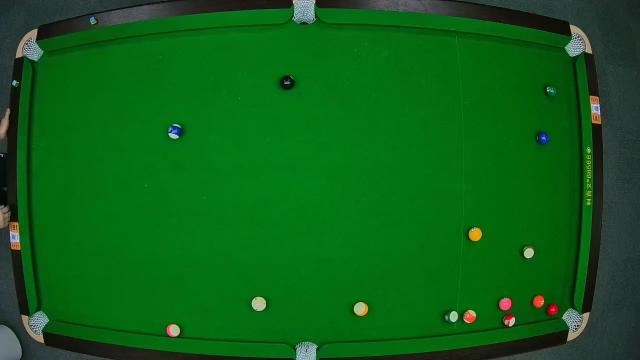bag1: (22, 38, 42, 60)
bag2: (292, 1, 316, 23)
bag3: (566, 34, 586, 57)
bag4: (28, 310, 48, 334)
bag5: (294, 342, 318, 360)
bag6: (561, 309, 583, 329)
ball0: (252, 298, 268, 310)
ball1: (468, 226, 484, 242)
ball10: (168, 124, 184, 140)
ball11: (504, 314, 516, 326)
ball12: (165, 324, 182, 336)
ball13: (464, 309, 476, 325)
ball14: (444, 310, 458, 324)
ball15: (522, 245, 536, 259)
ball2: (536, 132, 550, 146)
ball3: (546, 305, 560, 316)
ball4: (499, 296, 513, 312)
ball5: (533, 295, 545, 307)
ball6: (546, 83, 558, 97)
ball8: (281, 75, 295, 91)
ball9: (352, 301, 370, 316)
